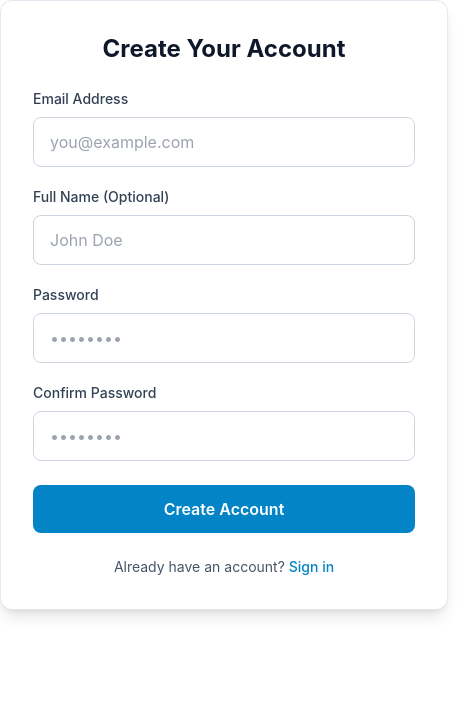
Test: RegisterForm Component › Form Validation › should show error when password is too short
Type "short" into the password field labelled "Password" at [224, 338], box [33,313,415,363]
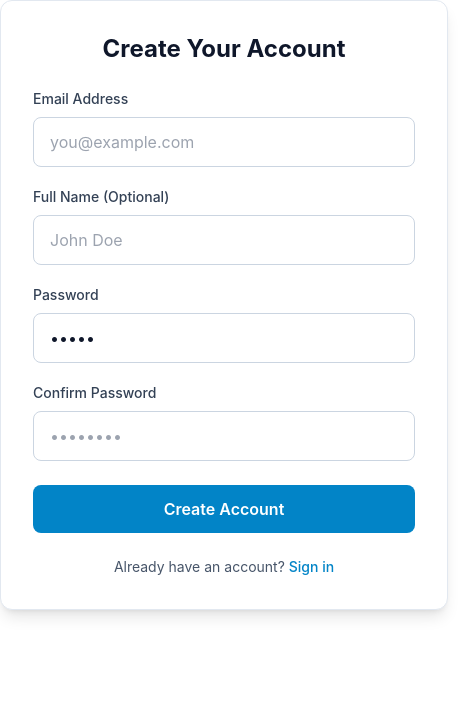
Click the button "Create Account" at [224, 509], box [33,485,415,533]
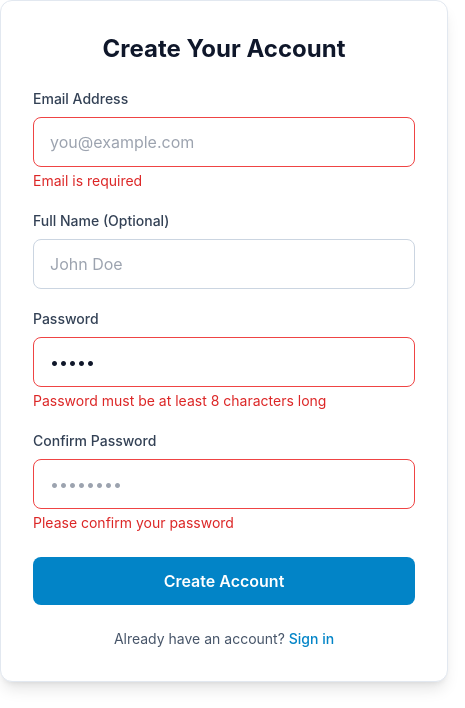
Expected: the text "Password must be at least 8 characters long" is shown, [33,392,326,409]
